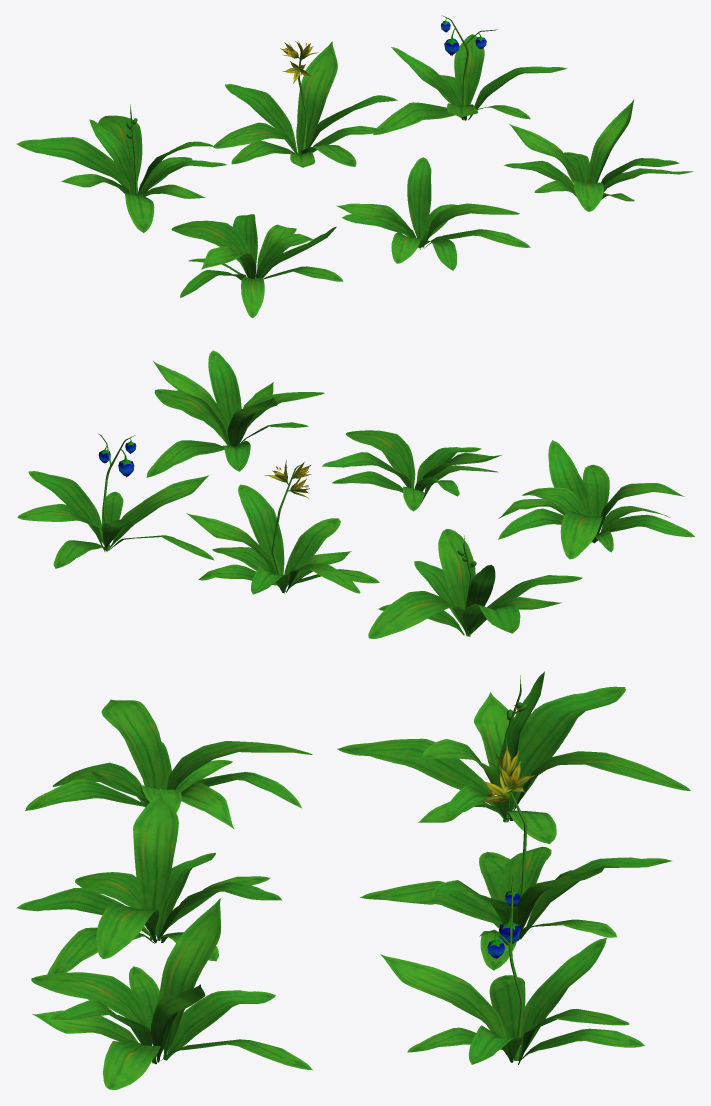
Rendered from berry (source).glb.
3 renders of one model, top to bottom at view 1: azimuth 30°, elevation 25°; view 2: azimuth 150°, elevation 25°; view 3: azimuth 270°, elevation 25°, orthographic. The views are drawn at different scales.
Parts seen in each view (by area): view 1: Plant_flowers, Plant_bud, Plant_var_3, Plant_var_2, Plant_berries, Plant_var_1; view 2: Plant_flowers, Plant_bud, Plant_var_3, Plant_var_1, Plant_berries, Plant_var_2; view 3: Plant_var_1, Plant_bud, Plant_var_2, Plant_berries, Plant_var_3, Plant_flowers.
Part boxes in pixels (x1,y1,x2,y2): Plant_flowers: [213, 41, 397, 167]; Plant_bud: [16, 104, 226, 233]; Plant_var_3: [171, 214, 343, 317]; Plant_var_2: [336, 157, 530, 270]; Plant_berries: [373, 15, 567, 134]; Plant_var_1: [504, 99, 693, 211]; Plant_flowers: [186, 460, 379, 594]; Plant_bud: [368, 529, 582, 638]; Plant_var_3: [498, 440, 694, 559]; Plant_var_1: [146, 350, 324, 477]; Plant_berries: [17, 433, 214, 568]; Plant_var_2: [322, 430, 501, 511]; Plant_var_1: [31, 898, 312, 1089]; Plant_bud: [337, 671, 690, 844]; Plant_var_2: [16, 788, 281, 974]; Plant_berries: [380, 876, 644, 1064]; Plant_var_3: [25, 699, 312, 828]; Plant_flowers: [360, 745, 671, 970].
Size of the model in its own units: 3.11 by 0.752 by 2.41.
1 material, 1 textured.
